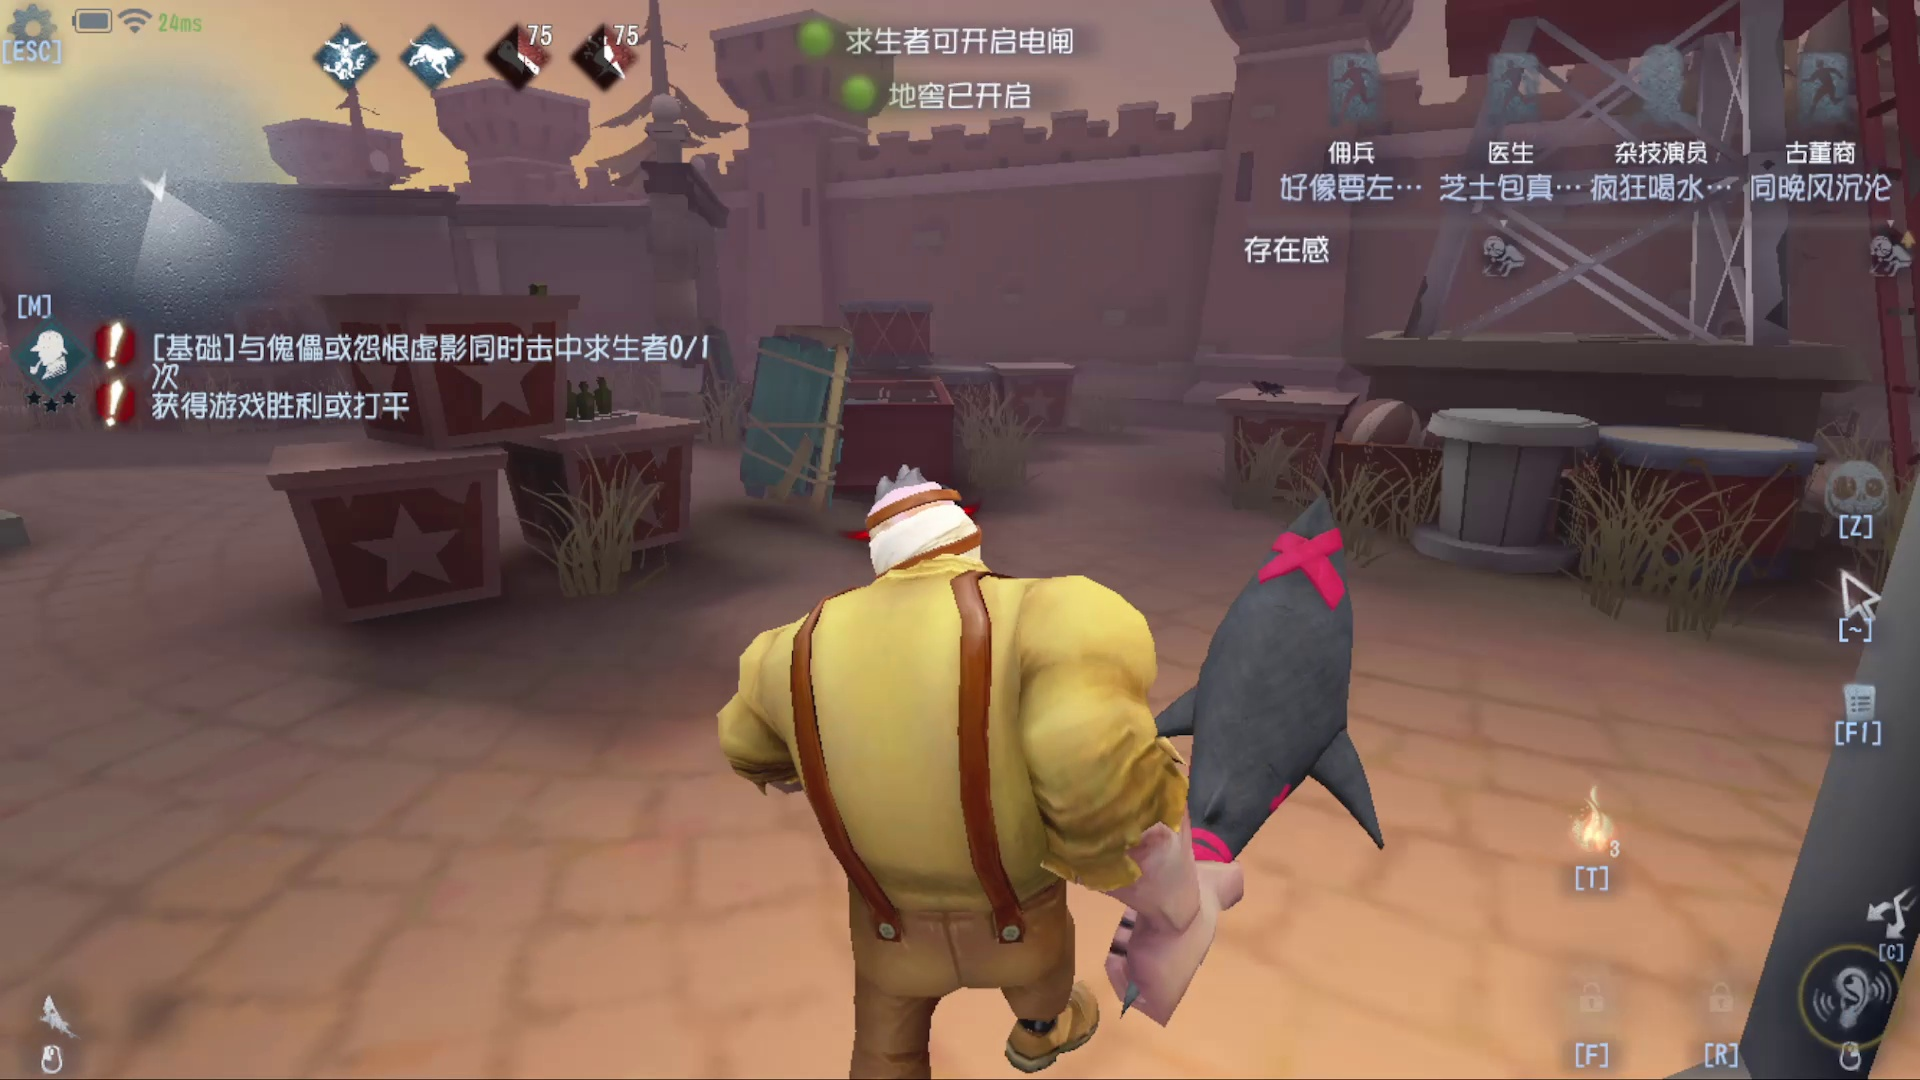技能: (1532, 767, 1643, 909)
木板: (733, 314, 856, 512), (700, 322, 748, 436)
